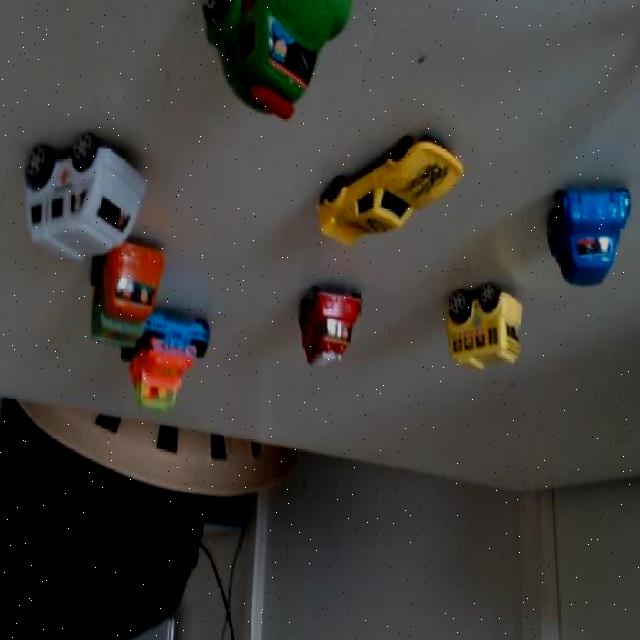car: (179, 0, 378, 130), (20, 110, 161, 283), (320, 126, 462, 257), (434, 267, 526, 374), (135, 311, 221, 421), (91, 233, 162, 357), (286, 268, 364, 379), (551, 180, 632, 286)
